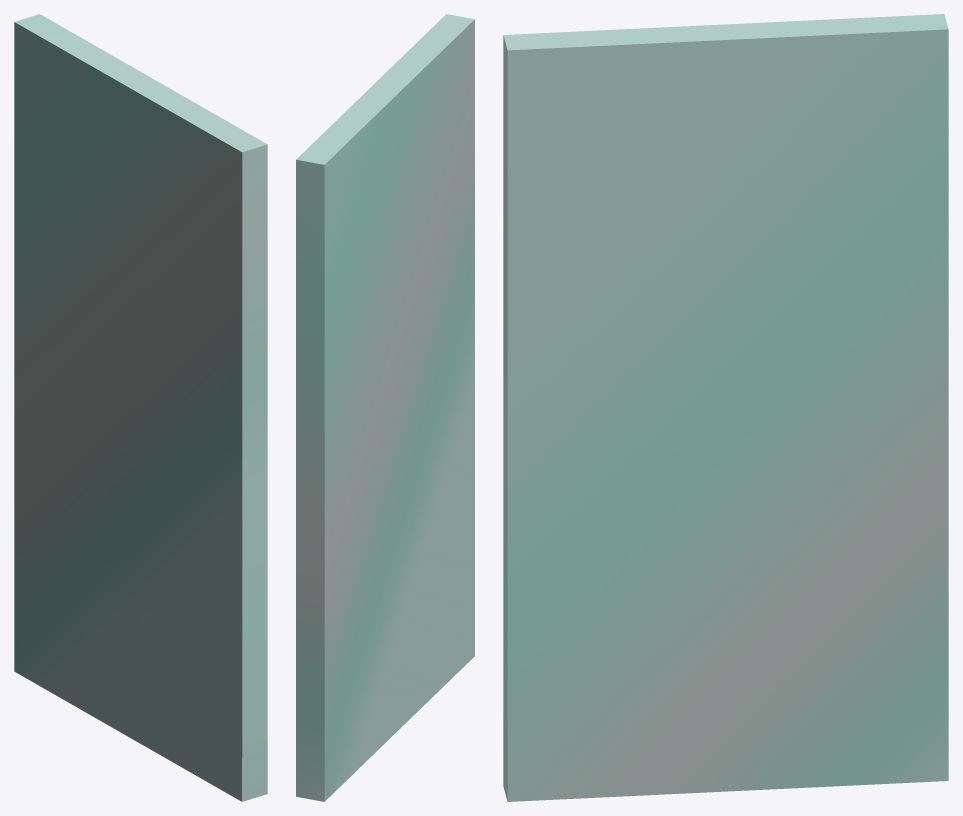
The model's file is SM_105_Door_11_1_2.fbx.
3 renders of one model, left to right at view 1: azimuth 30°, elevation 25°; view 2: azimuth 150°, elevation 25°; view 3: azimuth 270°, elevation 25°, orthographic. The views are drawn at different scales.
Visible parts, largest first — view 1: SM_105_Door_11_1_2; view 2: SM_105_Door_11_1_2; view 3: SM_105_Door_11_1_2.
Boxes of the visible parts, x1,y1,x2,y2 form: SM_105_Door_11_1_2: (14,14,267,801); SM_105_Door_11_1_2: (296,14,474,801); SM_105_Door_11_1_2: (503,14,948,801).
Bounding box in the file's own units: 20.55 × 106 × 198.
1 material, 1 textured.
